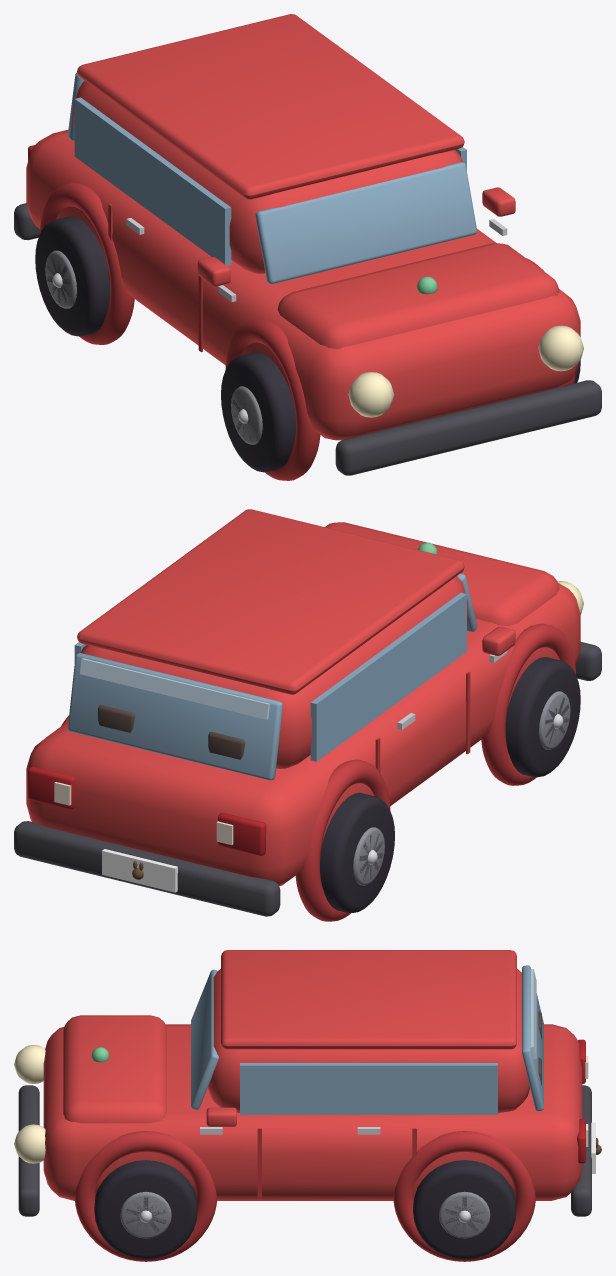
Rendered from car_hero.glb.
The picture shows the model from 3 angles, top to bottom: view 1: azimuth 30°, elevation 25°; view 2: azimuth 150°, elevation 25°; view 3: azimuth 270°, elevation 25°; orthographic projection. The views are drawn at different scales.
Visible parts, largest first — view 1: body, wheel_rr, wheel_fr; view 2: body, wheel_fr, wheel_rr; view 3: body, wheel_rl, wheel_fl.
Boxes of the visible parts, bbox=[...] form: body: bbox=[14, 14, 601, 480]; wheel_rr: bbox=[35, 216, 110, 336]; wheel_fr: bbox=[221, 352, 295, 472]; body: bbox=[14, 509, 601, 921]; wheel_fr: bbox=[505, 657, 580, 777]; wheel_rr: bbox=[320, 792, 394, 913]; body: bbox=[14, 950, 601, 1261]; wheel_rl: bbox=[413, 1160, 516, 1259]; wheel_fl: bbox=[94, 1160, 197, 1259].
Size of the model in its own units: 2.11 by 1.55 by 3.87.
